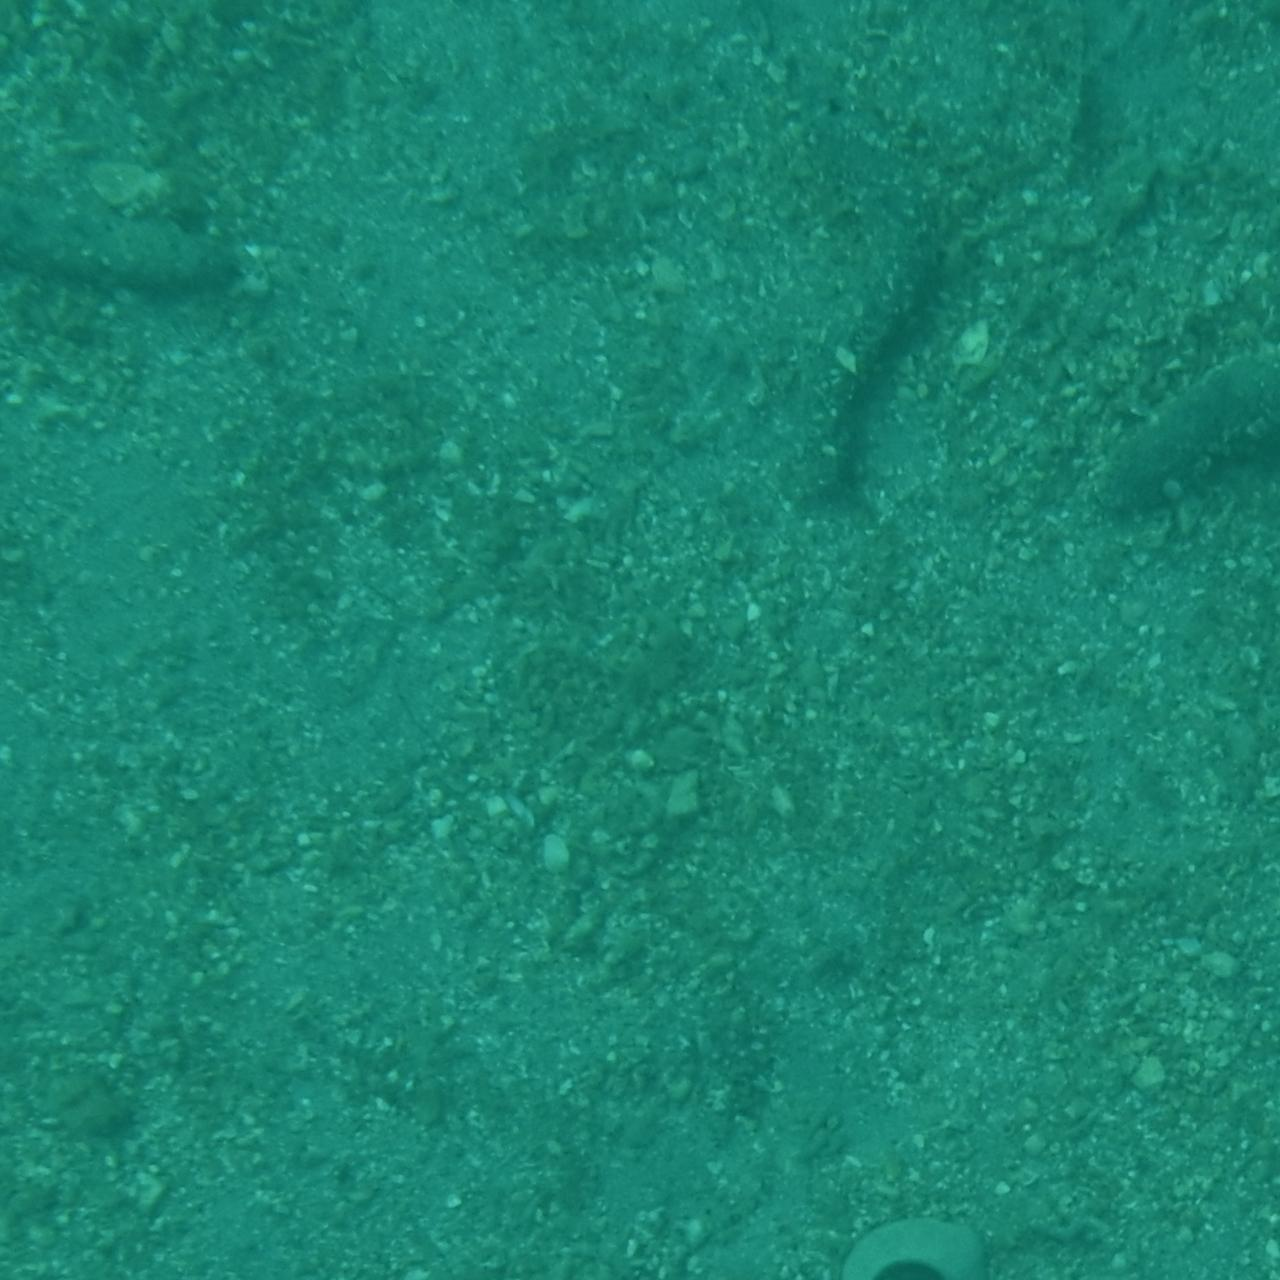Holothuria tubulosa: (770, 211, 949, 522), (1081, 326, 1280, 577), (624, 1186, 1068, 1280), (0, 168, 258, 312), (1095, 0, 1280, 162), (993, 1191, 1280, 1280)
